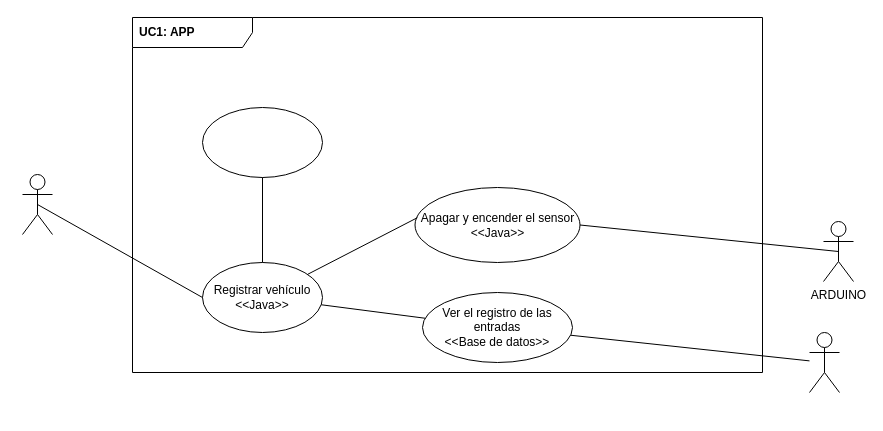
The diagram is 883 pixels wide and 431 high, and some of its shapes have lost their labels. Each missing label, with the centre of its shape:
Base de datos: point 824,362
Usuario: point 37,204
Validar Registro <<Java>>: point 262,142
